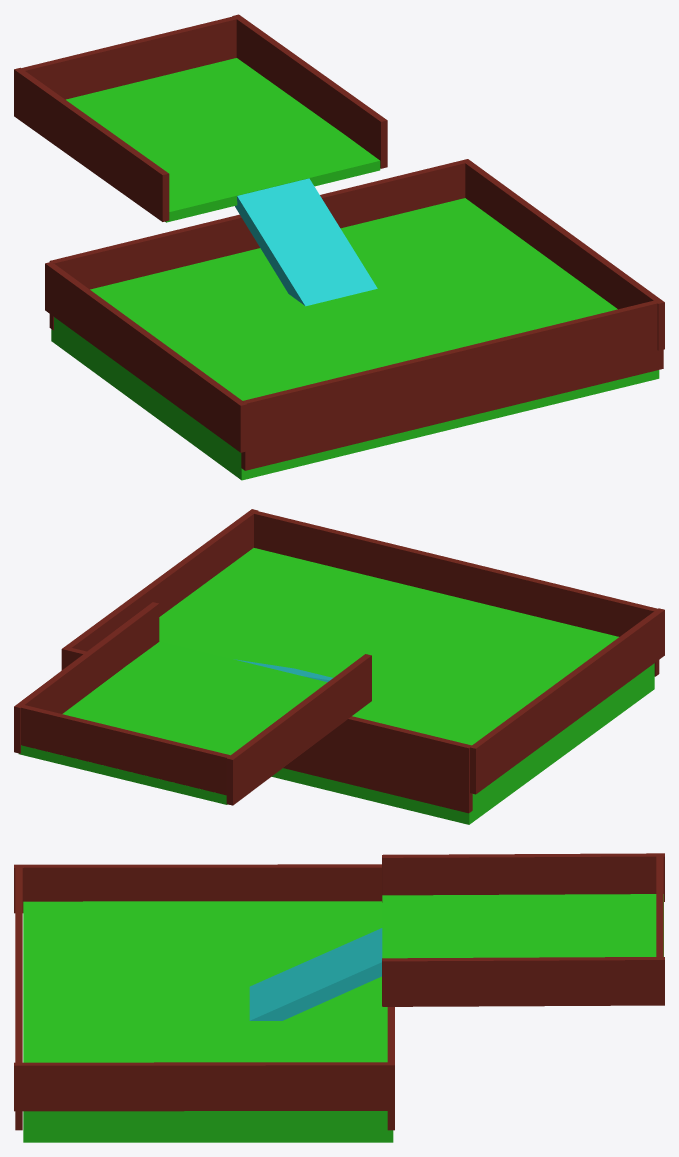
Rendered from Level 2.fbx.
3 views of the same model, one above another, from view 1: azimuth 30°, elevation 25°; view 2: azimuth 150°, elevation 25°; view 3: azimuth 270°, elevation 25° (orthographic). The views are drawn at different scales.
Parts seen in each view (by area): view 1: Cube, Cube.003, Cube.002, Cube.004, Cube.008, Cube.001, Cube.007, Cube.005, Cube.009, Cube.006; view 2: Cube, Cube.002, Cube.003, Cube.004, Cube.008, Cube.005, Cube.007, Cube.006, Cube.009; view 3: Cube, Cube.009, Cube.002, Cube.006, Cube.008, Cube.007, Cube.001, Cube.003, Cube.005, Cube.004.
Boxes of the visible parts, x1,y1,x2,y2 form: Cube: (51, 198, 659, 480); Cube.003: (241, 299, 663, 470); Cube.002: (66, 58, 380, 222); Cube.004: (49, 159, 471, 330); Cube.008: (45, 262, 247, 452); Cube.001: (235, 178, 377, 306); Cube.007: (14, 67, 169, 221); Cube.005: (21, 16, 237, 99); Cube.009: (465, 161, 664, 350); Cube.006: (232, 14, 387, 168); Cube: (159, 548, 654, 824); Cube.002: (18, 641, 326, 804); Cube.003: (248, 509, 659, 676); Cube.004: (61, 646, 472, 813); Cube.008: (470, 608, 664, 794); Cube.005: (21, 705, 230, 795); Cube.007: (226, 654, 371, 805); Cube.006: (14, 602, 159, 753); Cube.009: (66, 509, 258, 651); Cube: (23, 901, 393, 1142); Cube.009: (14, 1062, 391, 1111); Cube.002: (382, 894, 663, 958); Cube.006: (382, 957, 664, 1006); Cube.008: (14, 864, 381, 913); Cube.007: (382, 853, 664, 902); Cube.001: (249, 928, 382, 1020); Cube.003: (15, 867, 22, 1130); Cube.005: (656, 856, 663, 957); Cube.004: (387, 1007, 394, 1130).
Bounding box in the file's own units: 1330 × 431 × 1818.
